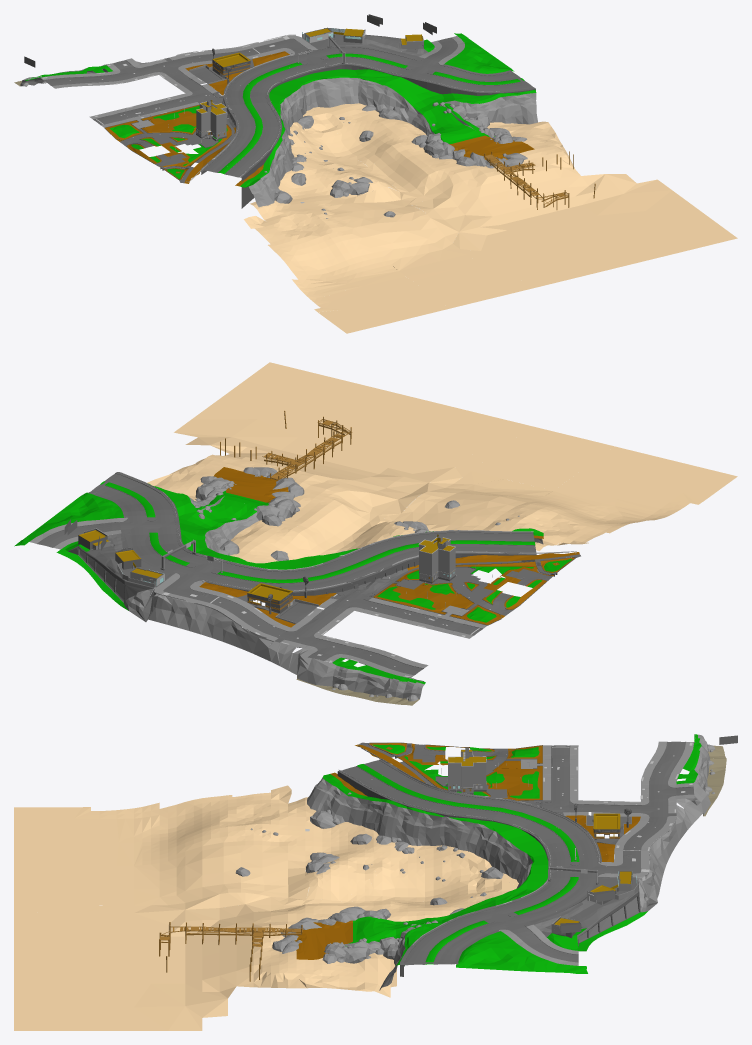
File: brook_n2_5.FBX
3 renders of one model, top to bottom at view 1: azimuth 30°, elevation 25°; view 2: azimuth 150°, elevation 25°; view 3: azimuth 270°, elevation 25°, orthographic. The views are drawn at different scales.
Parts seen in each view (by area): view 1: unnamed, null; view 2: unnamed, null; view 3: unnamed, null.
Boxes of the visible parts, x1=… form: unnamed: x1=14, y1=14, x2=737, y2=333; null: x1=294, y1=40, x2=540, y2=170; unnamed: x1=14, y1=362, x2=737, y2=705; null: x1=28, y1=472, x2=339, y2=569; unnamed: x1=14, y1=734, x2=737, y2=1030; null: x1=367, y1=852, x2=564, y2=997.
Size of the model in its own units: 384 by 68.74 by 488.
